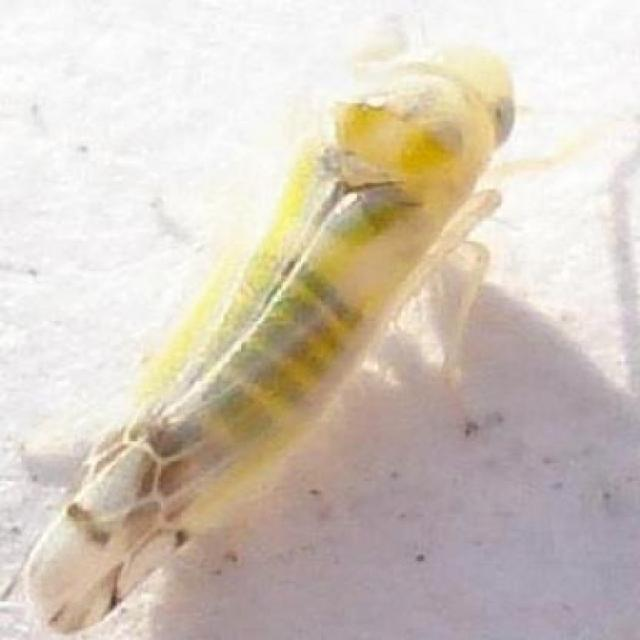green-leafhopper: (26, 14, 622, 627)
